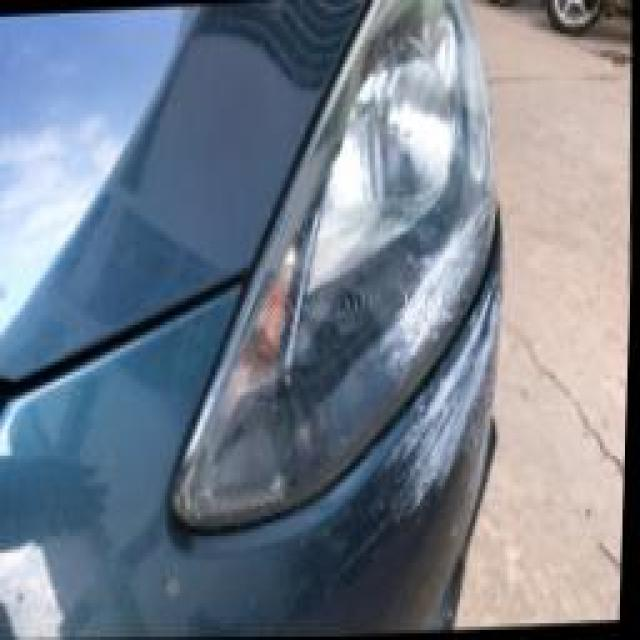Bumper: (300, 236, 532, 636)
Light: (176, 0, 509, 525)
